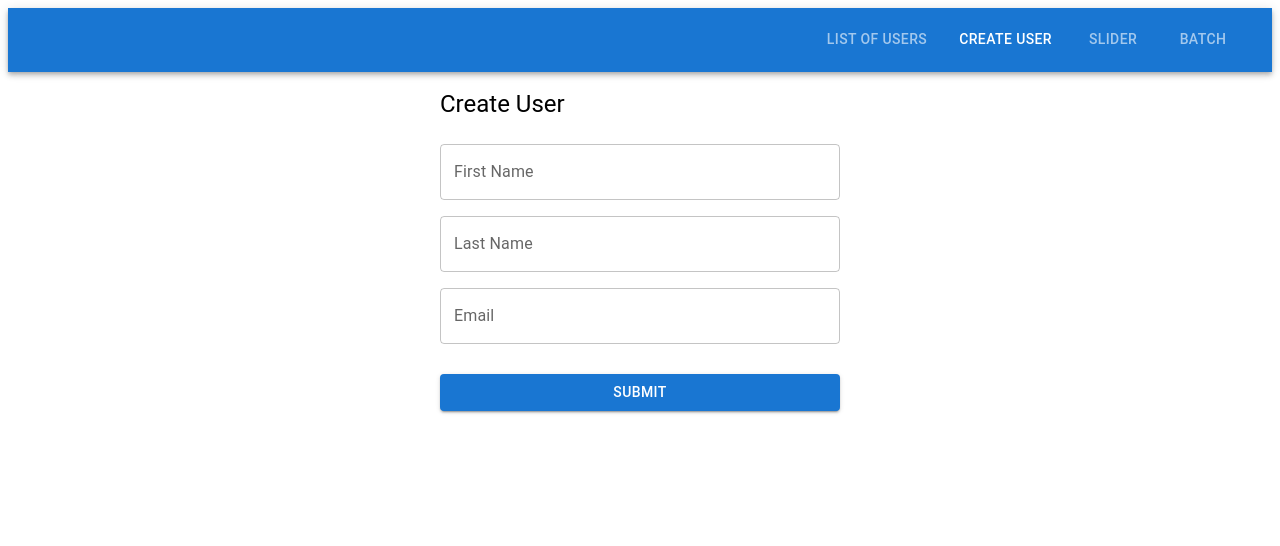
Test case: Create User Form › should display validation errors for empty fields
Click the submit button at {"x": 640, "y": 393}, box [440,374,840,411]
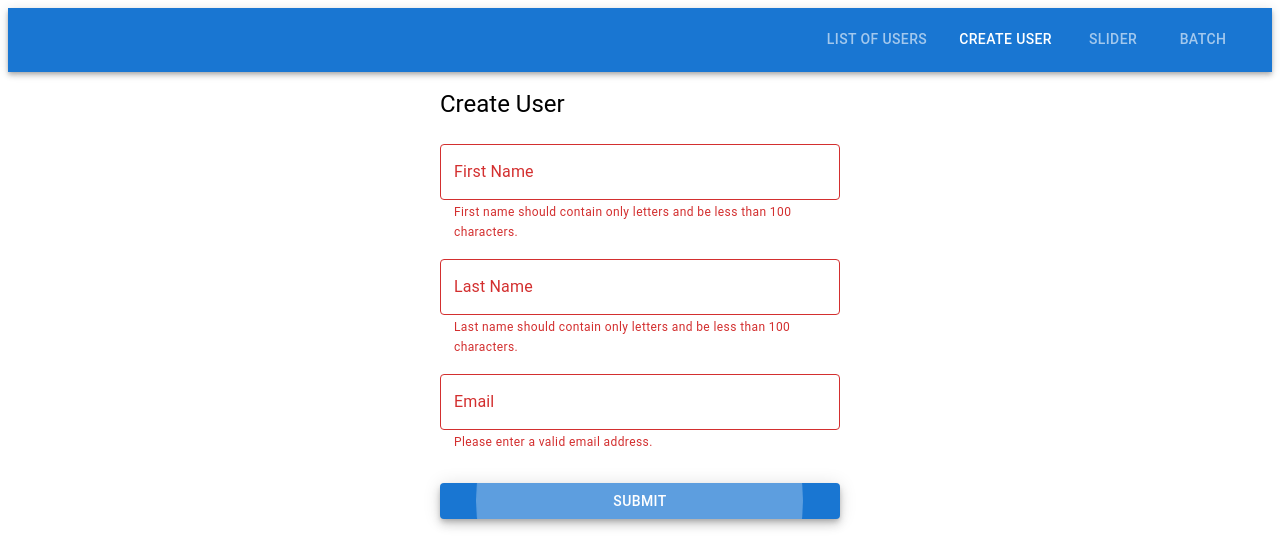
Check: the text "First name should contain only letters and be less than 100 characters." is shown, box [454,203,826,243]
Check: the text "Last name should contain only letters and be less than 100 characters." is shown, box [454,318,826,358]
Check: the text "Please enter a valid email address." is shown, box [454,435,653,449]
